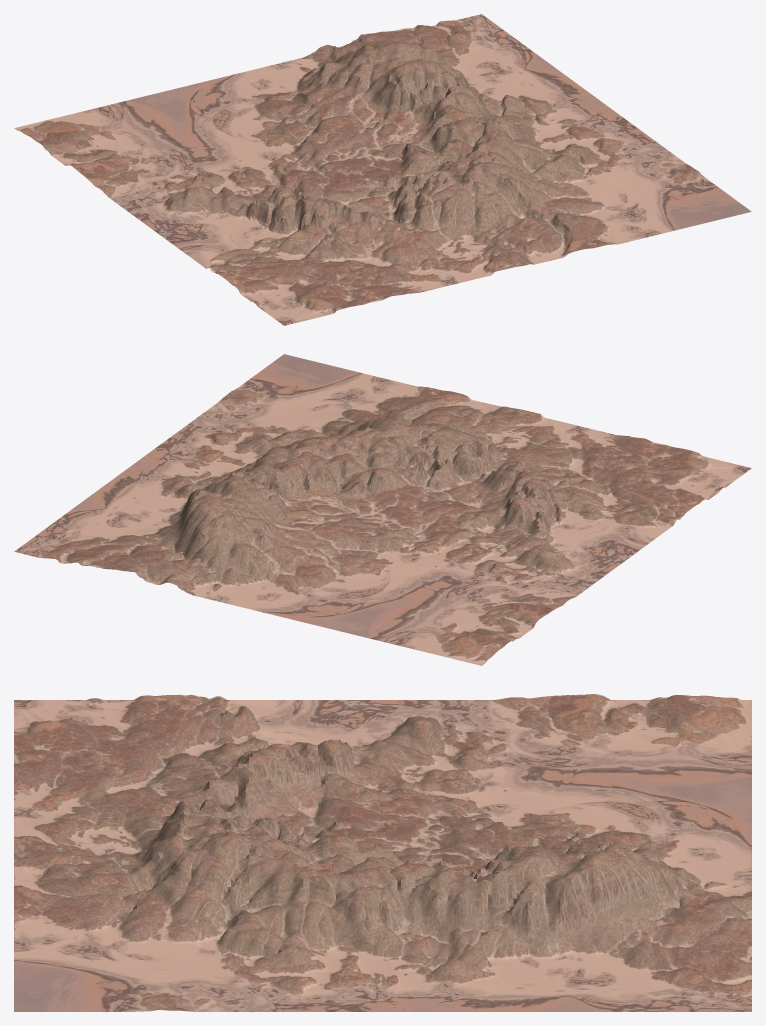
The model's file is sand_rock_pack_03.glb.
3 renders of one model, top to bottom at view 1: azimuth 30°, elevation 25°; view 2: azimuth 150°, elevation 25°; view 3: azimuth 270°, elevation 25°, orthographic. The views are drawn at different scales.
Visible parts, largest first — view 1: Mesher_MesherMat_0; view 2: Mesher_MesherMat_0; view 3: Mesher_MesherMat_0.
Boxes of the visible parts, x1,y1,x2,y2 form: Mesher_MesherMat_0: (14,14,751,325); Mesher_MesherMat_0: (14,354,751,665); Mesher_MesherMat_0: (14,694,751,1011).
Bounding box in the file's own units: 50 × 4.81 × 50.
Materials: 1 (1 with a texture image).
